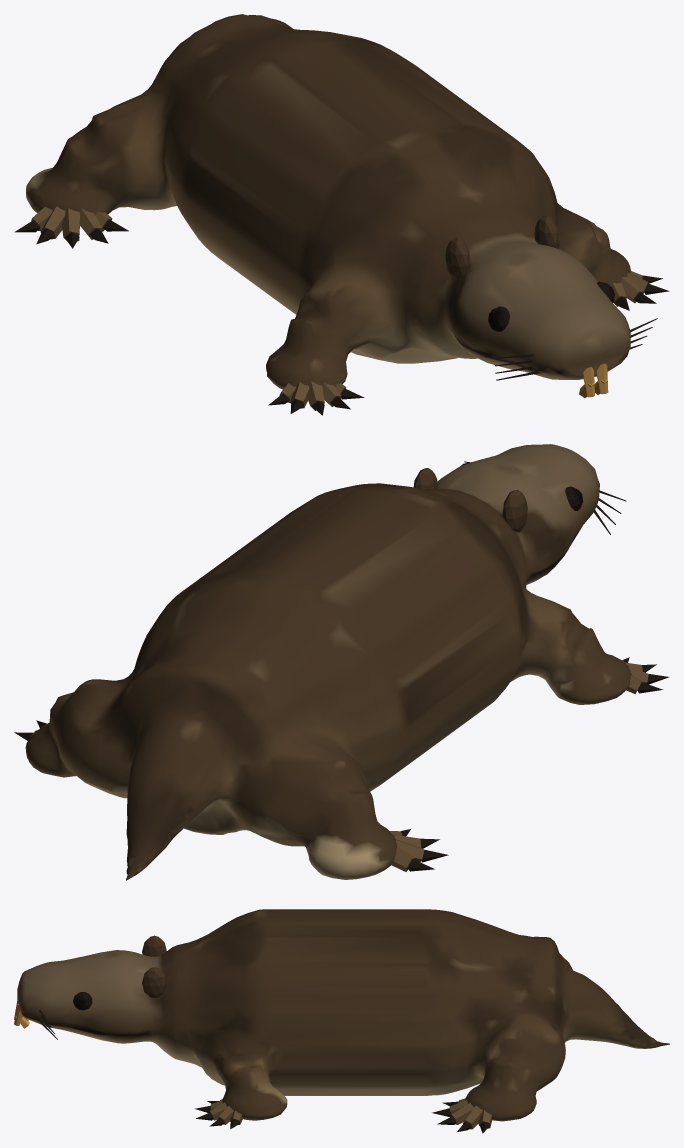
Rendered from Kayentatherium.fbx.
The picture shows the model from 3 angles, top to bottom: view 1: azimuth 30°, elevation 25°; view 2: azimuth 150°, elevation 25°; view 3: azimuth 270°, elevation 25°; orthographic projection. The views are drawn at different scales.
Parts seen in each view (by area): view 1: Kayentatherium; view 2: Kayentatherium; view 3: Kayentatherium.
Part boxes in pixels (<box>): Kayentatherium: <box>14,14,669,415</box>; Kayentatherium: <box>14,444,669,880</box>; Kayentatherium: <box>14,909,669,1133</box>.
Size of the model in its own units: 0.5298 by 0.2545 by 0.9165.
